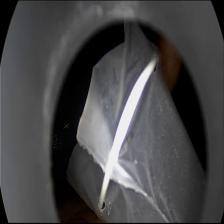Specimen Bag: (66, 15, 208, 224)
